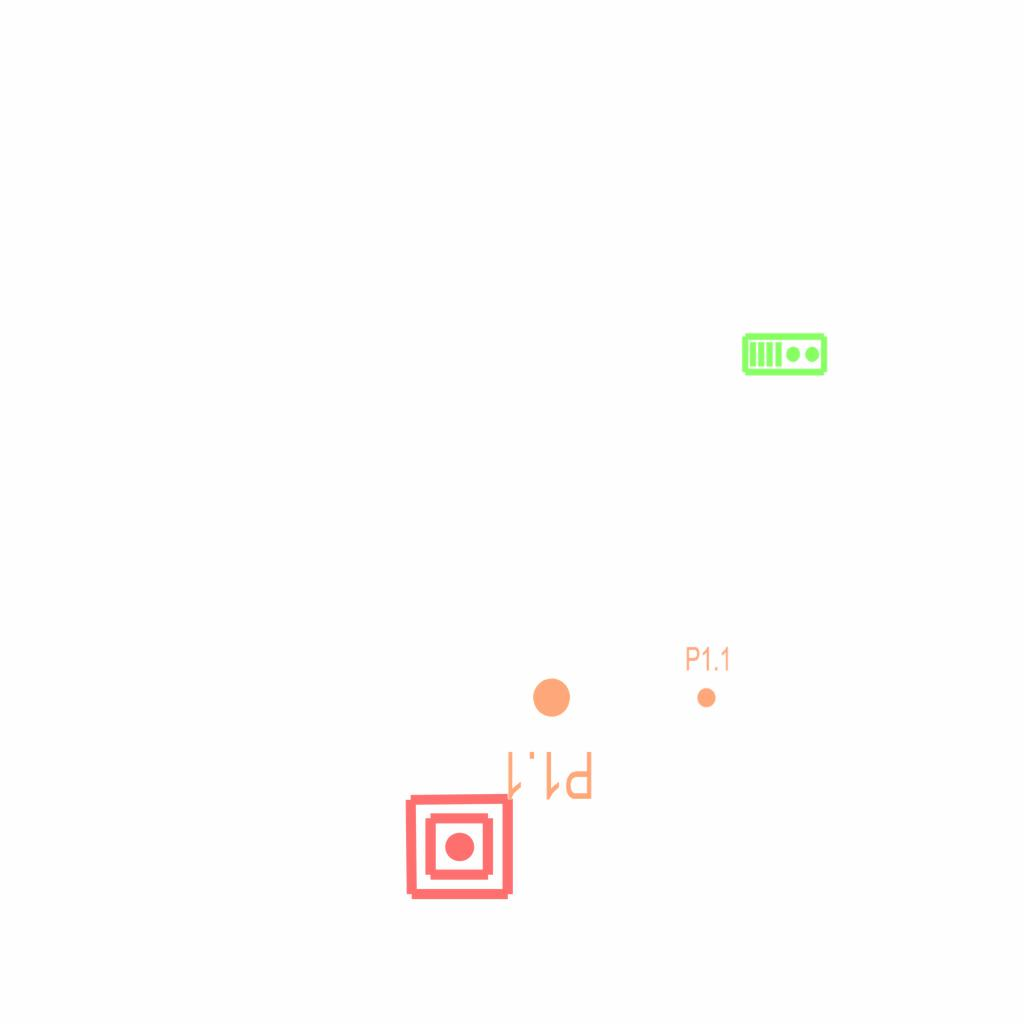Downlight_LED_Einbauleuchten_Flur: (502, 675, 595, 803), (685, 645, 731, 709)
Gegensprechanlage_mit_Video: (741, 330, 829, 377)
NAM-Nichtautomatischer_Melder: (403, 790, 516, 903)
